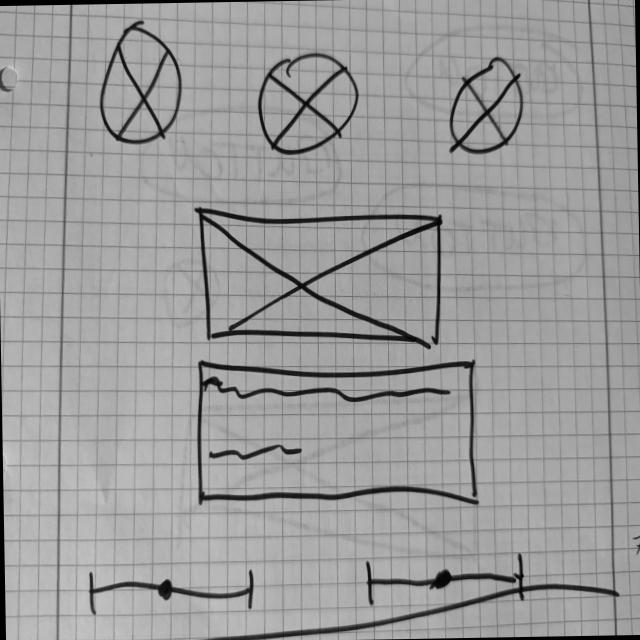image: (197, 200, 445, 349), (95, 22, 185, 148), (254, 51, 359, 156), (446, 53, 526, 157)
slider: (360, 550, 526, 608), (85, 566, 256, 620)
textarea: (194, 355, 482, 510)
